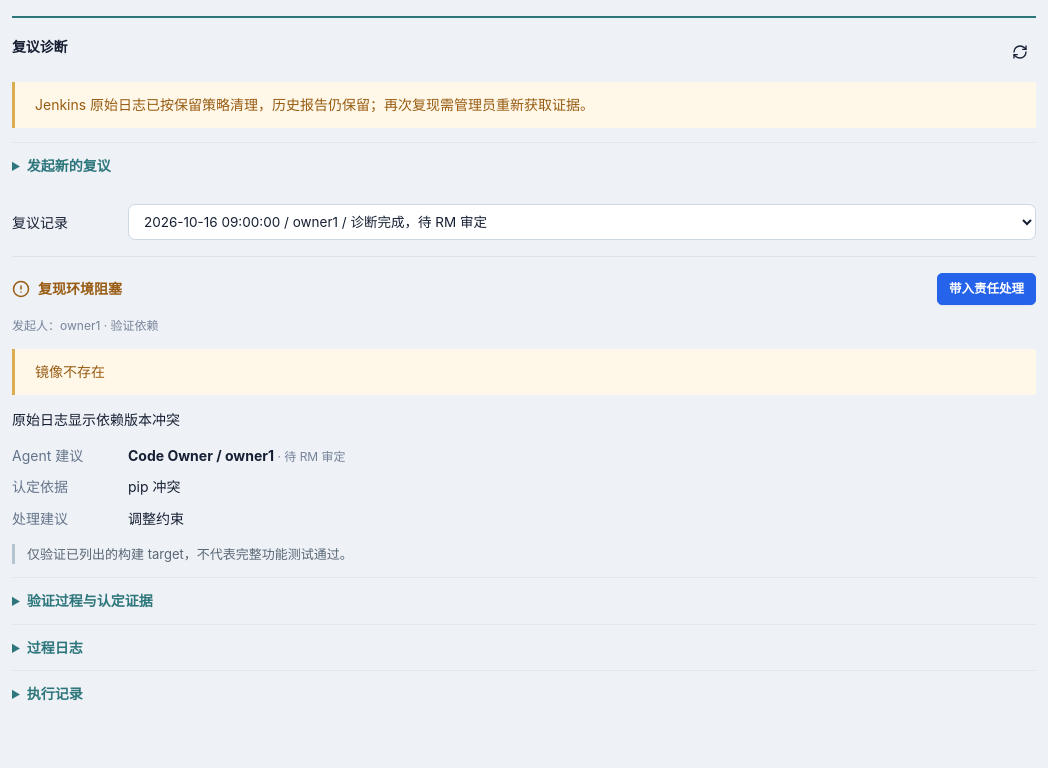
Test: FailureReproPanel › distinguishes expired logs from missing task output
Expected: the text "Jenkins 原始日志已按保留策略清理，历史报告仍保留；再次复现需管理员重新获取证据。" is shown, top-left (12, 82), bottom-right (1036, 128)
Click the heading "过程日志": (55, 647) top-left (27, 639), bottom-right (83, 656)
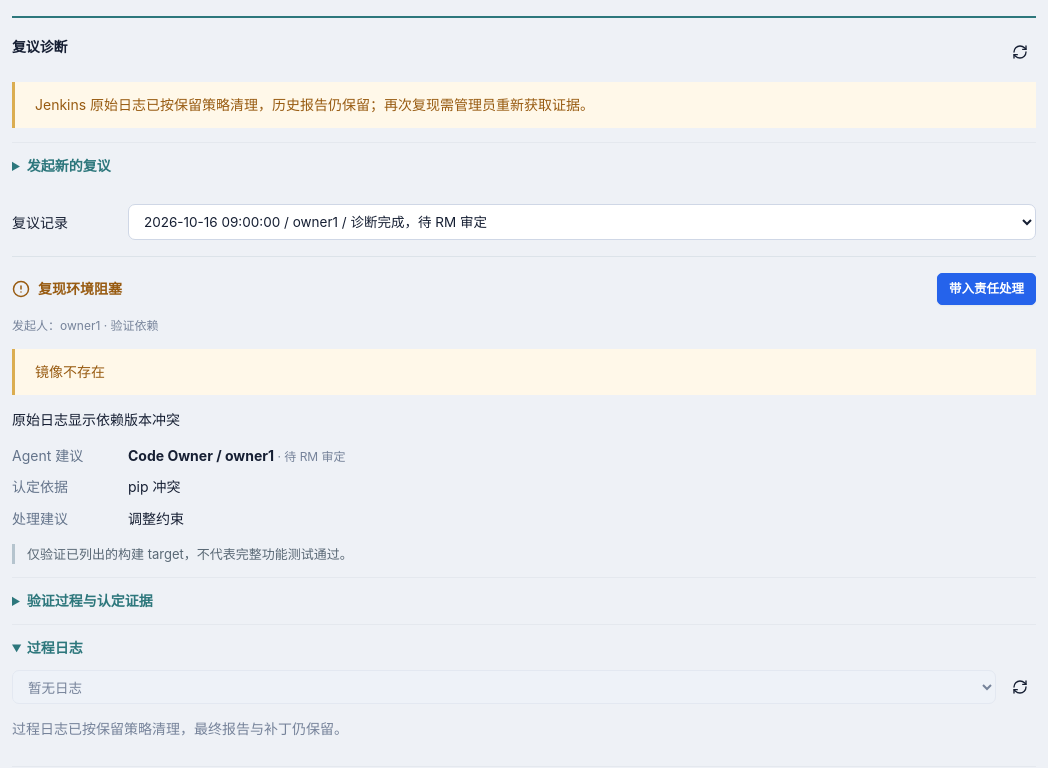
Now the text "过程日志已按保留策略清理，最终报告与补丁仍保留。" is shown, box top-left (12, 720), bottom-right (348, 737)
